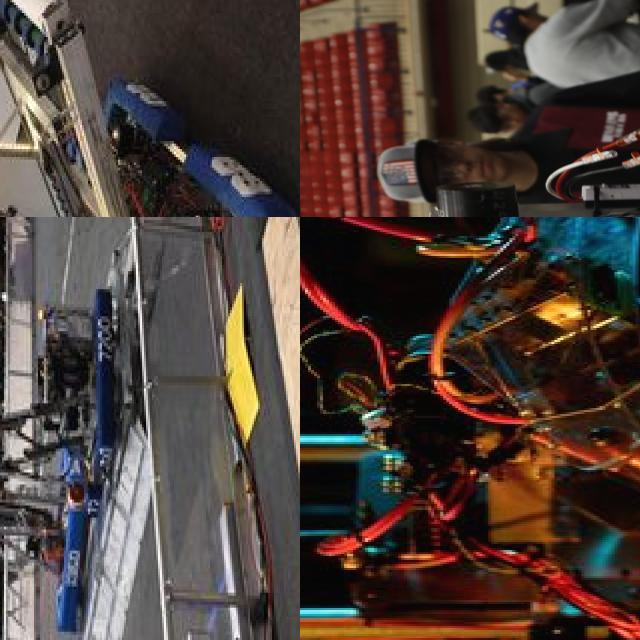FRC-Robots: (300, 217, 640, 640), (0, 0, 290, 217), (0, 257, 129, 452), (0, 469, 94, 591)
